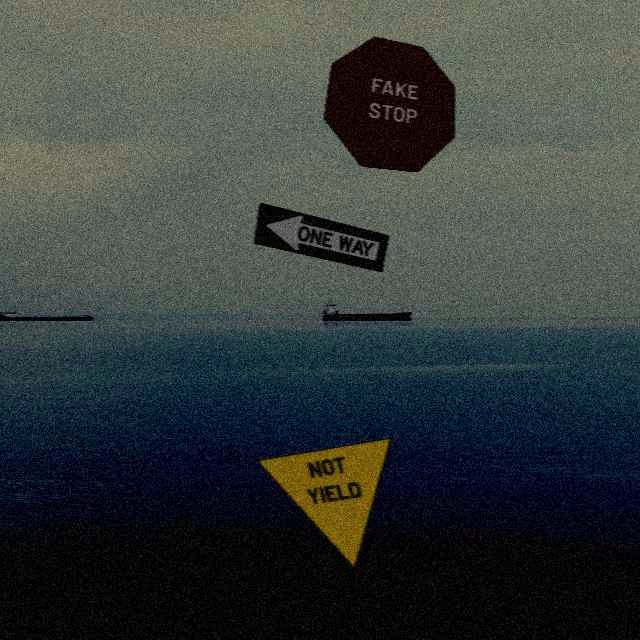FAKE_STOP: (323, 36, 455, 172)
NOT_YIELD: (256, 437, 392, 569)
ONE_WAY_ left: (253, 202, 389, 272)
